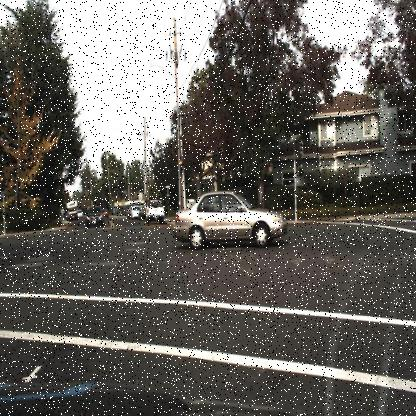car: (167, 188, 289, 254), (80, 202, 108, 232), (144, 200, 169, 228), (144, 197, 166, 226), (86, 202, 107, 228)
trafficLight-Red: (178, 155, 186, 178), (178, 155, 184, 176)
truck: (64, 198, 80, 224)
